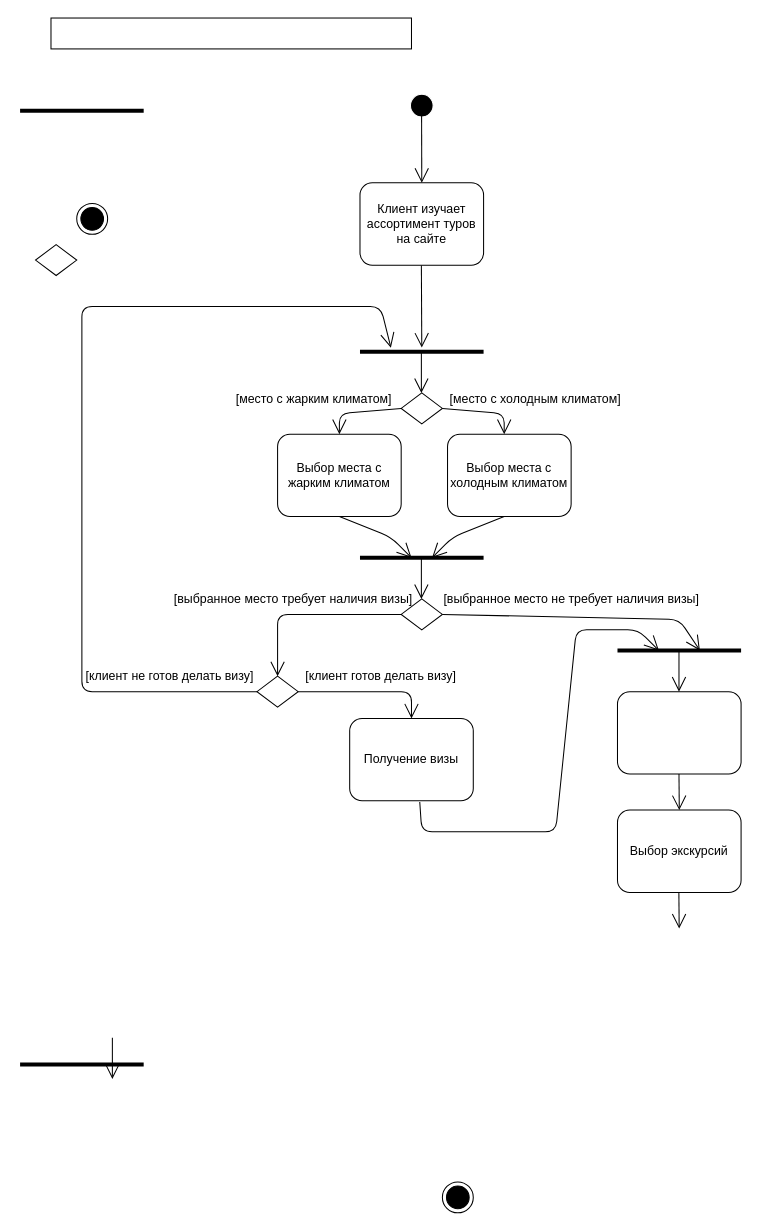
This 761x1231 diagram has some shape labels left out. Each missing label, with the centre of its shape:
"< activity > Выбор тура клиентом" belongs at point 230,33.
"Выбор отеля" belongs at point 678,732.
